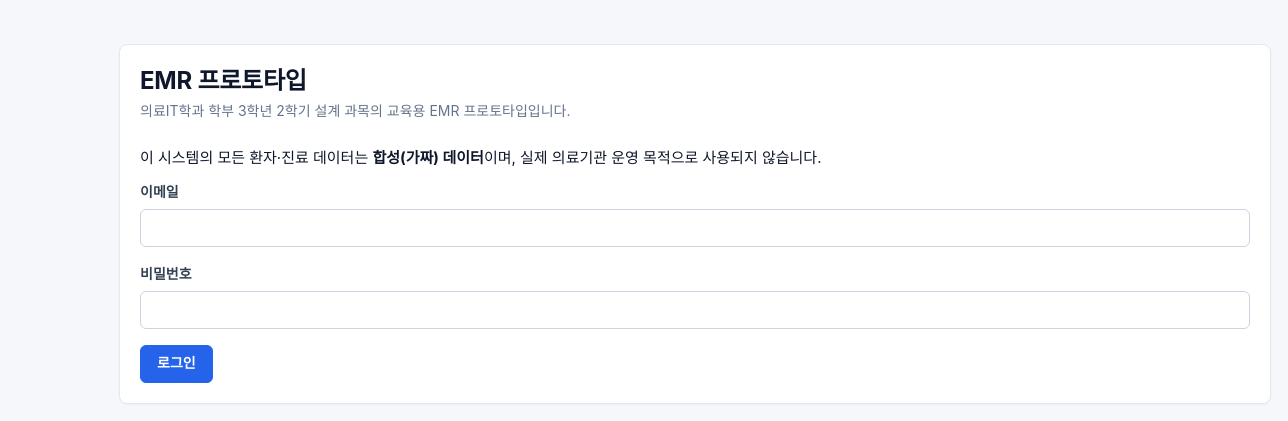
LoginPage › navigates to /doctor when the token's role is DOCTOR
This screenshot has width=1288, height=421.
Type "endocrine.doctor@example.test" into the field labelled "이메일" at (695, 228), box left=140, top=209, right=1250, bottom=247
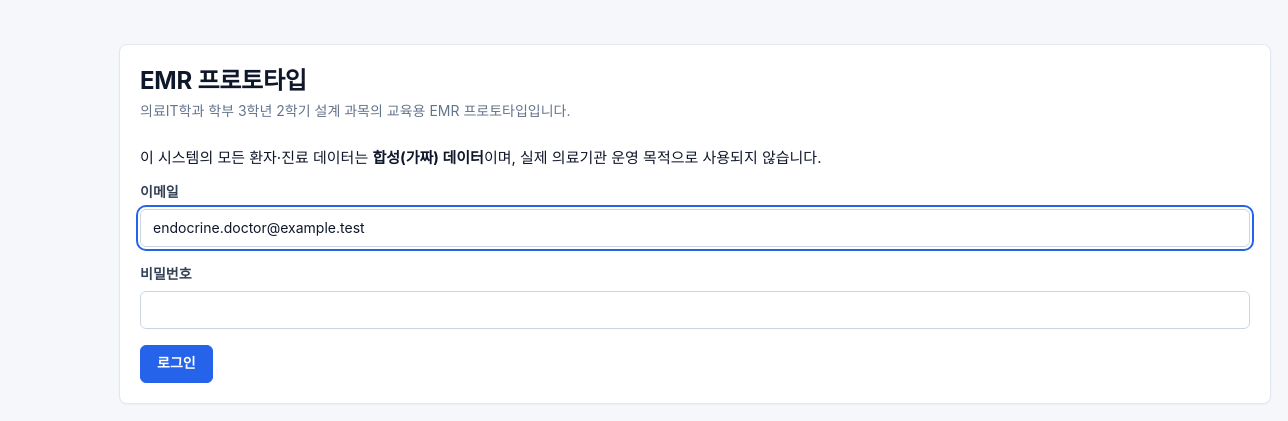
Type "demo1234" into the password field labelled "비밀번호" at (695, 310), box left=140, top=290, right=1250, bottom=328
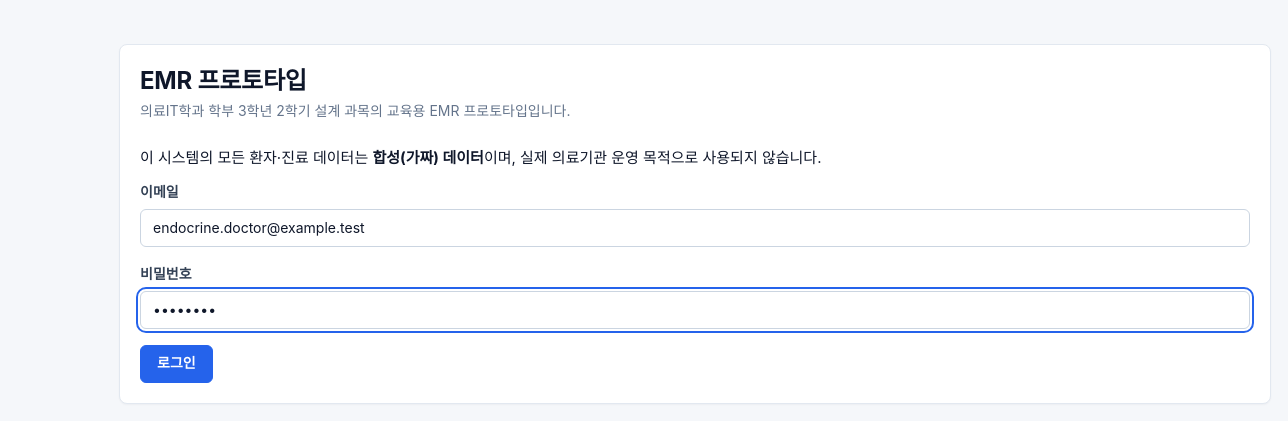
Click the button "로그인" at (176, 364), box left=140, top=344, right=213, bottom=382
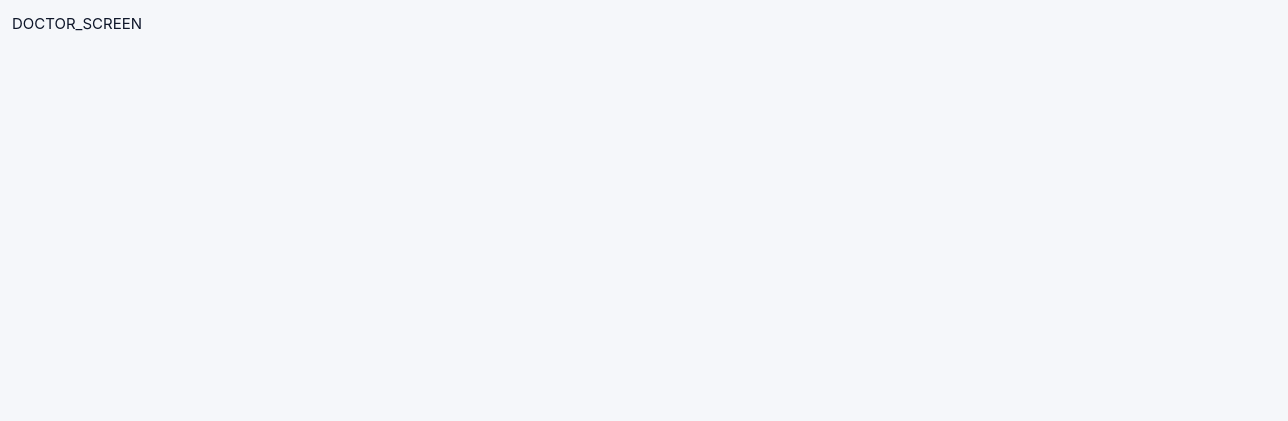
Check: the text "DOCTOR_SCREEN" is shown, box left=12, top=14, right=142, bottom=33
